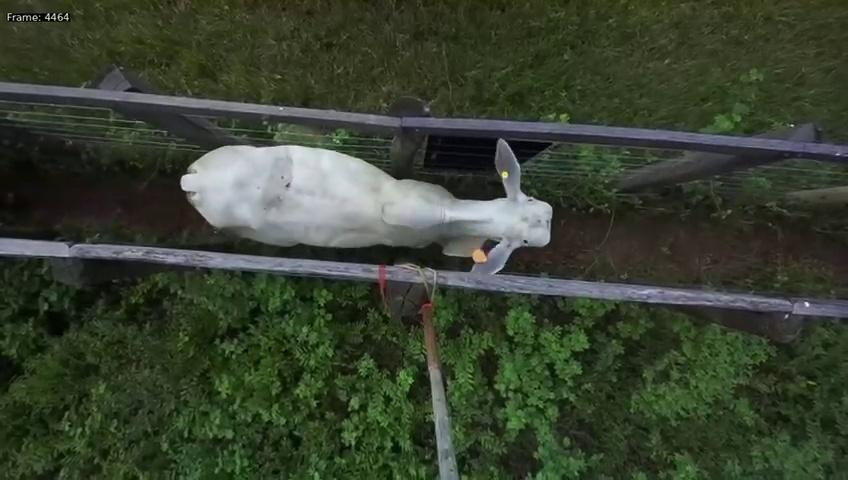cattle: (175, 135, 552, 273)
